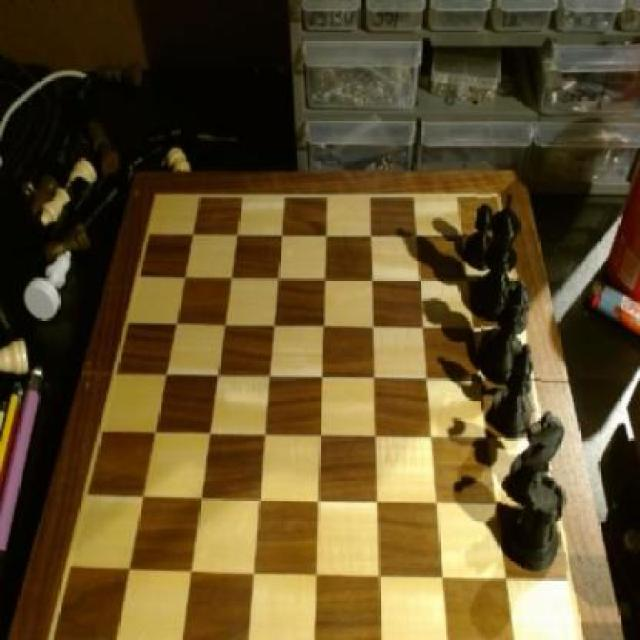bishop: (492, 340, 542, 442)
black-bishop: (479, 192, 526, 330)
black-king: (505, 412, 569, 511)
black-knight: (466, 203, 499, 273)
black-pawn: (478, 282, 530, 388)
black-queen: (508, 472, 567, 576)
